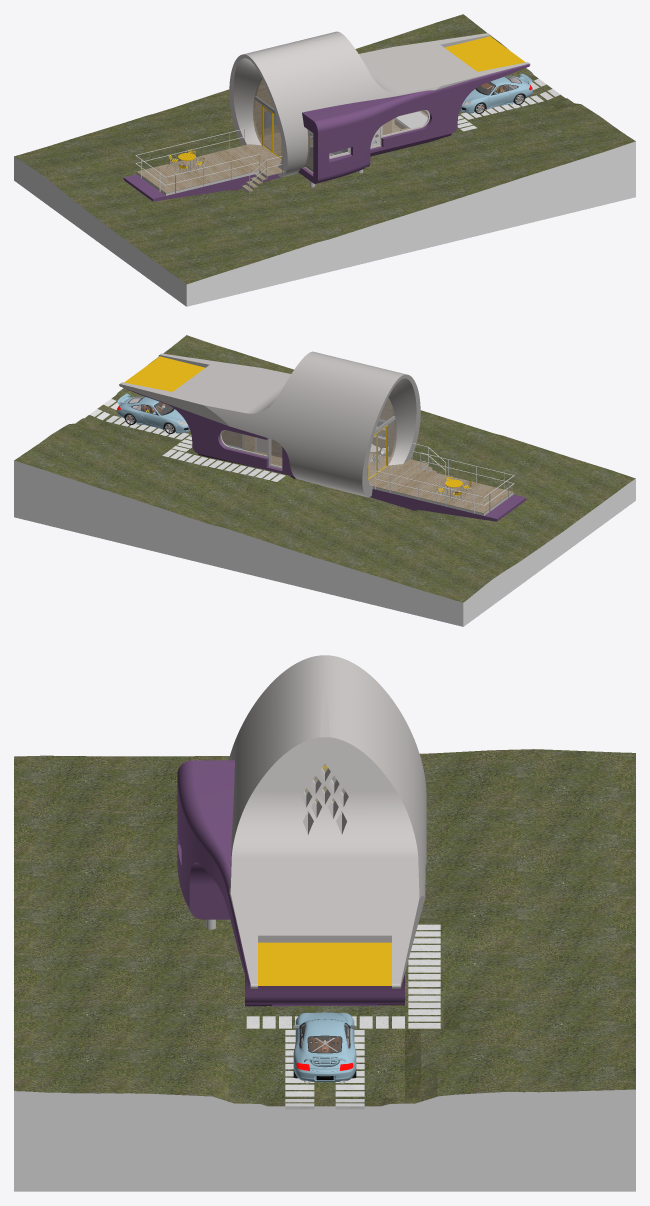
File: demo_house_2.glb
3 views of the same model, one above another, from view 1: azimuth 30°, elevation 25°; view 2: azimuth 150°, elevation 25°; view 3: azimuth 270°, elevation 25° (orthographic). The views are drawn at different scales.
Visible parts, largest first — view 1: Mesh/terrain, Object, Slab, Roof, Window, Railing, Wall; view 2: Mesh/terrain, Object, Slab, Roof, Wall, Window, Railing; view 3: Mesh/terrain, Object, Roof, Slab.
Part boxes in pixels (x1,y1,x2,y2): Mesh/terrain: (14, 14, 635, 306); Object: (123, 31, 532, 201); Slab: (136, 95, 543, 193); Roof: (444, 36, 560, 99); Window: (262, 105, 381, 159); Railing: (135, 128, 282, 193); Wall: (253, 78, 427, 167); Mesh/terrain: (14, 335, 635, 626); Object: (117, 351, 526, 521); Slab: (106, 415, 513, 513); Roof: (89, 356, 261, 476); Wall: (222, 398, 396, 464); Window: (268, 419, 387, 479); Railing: (375, 443, 514, 513); Mesh/terrain: (14, 749, 635, 1191); Object: (177, 655, 426, 1083); Roof: (258, 942, 440, 1109); Slab: (245, 763, 440, 1096).
Bounding box in the file's own units: 28.95 × 9.29 × 19.25.
48 materials, 15 textured.
